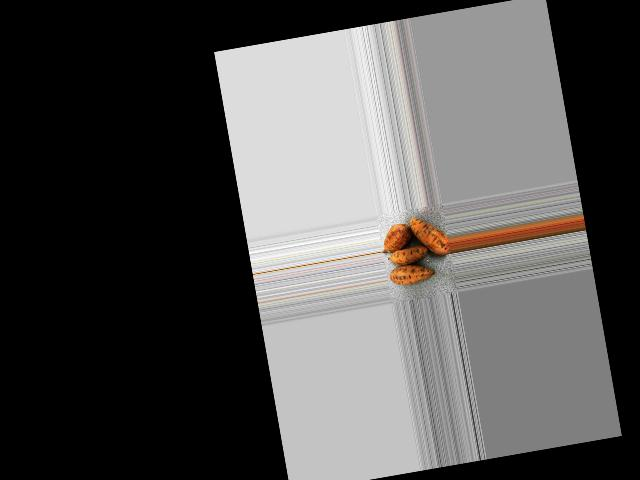sweet_potato: (408, 208, 452, 264)
